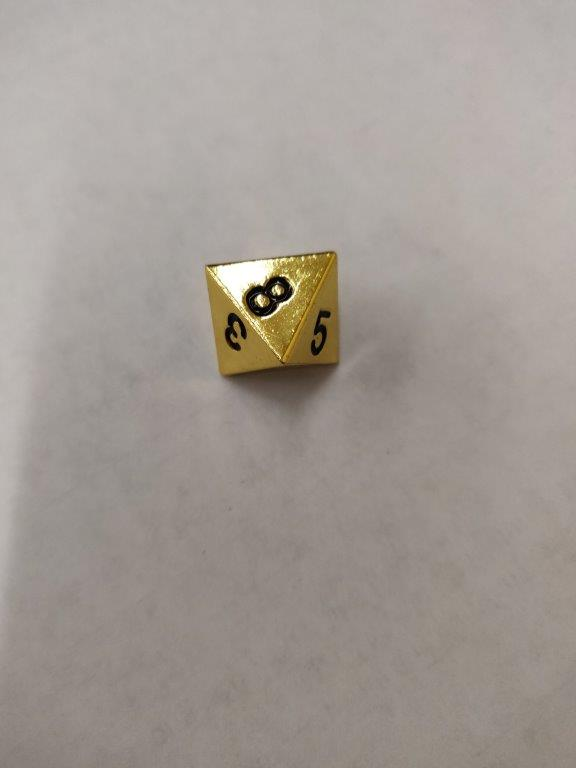d8-8: (203, 248, 342, 373)
